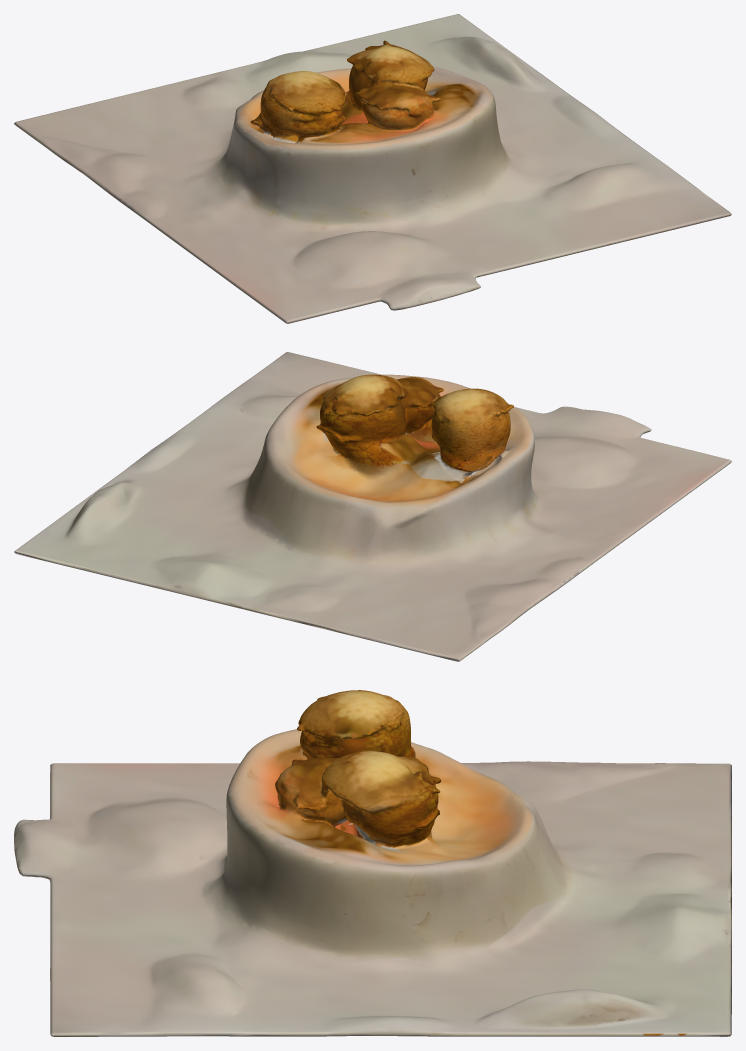
Rendered from coffee-table.glb.
3 renders of one model, top to bottom at view 1: azimuth 30°, elevation 25°; view 2: azimuth 150°, elevation 25°; view 3: azimuth 270°, elevation 25°, orthographic. The views are drawn at different scales.
Visible parts, largest first — view 1: textured; view 2: textured; view 3: textured.
Boxes of the visible parts, bbox=[...] form: textured: bbox=[14, 14, 731, 323]; textured: bbox=[14, 352, 731, 661]; textured: bbox=[14, 690, 731, 1036].
Size of the model in its own units: 1.66 by 0.4412 by 1.86.
Materials: 1 (1 with a texture image).
